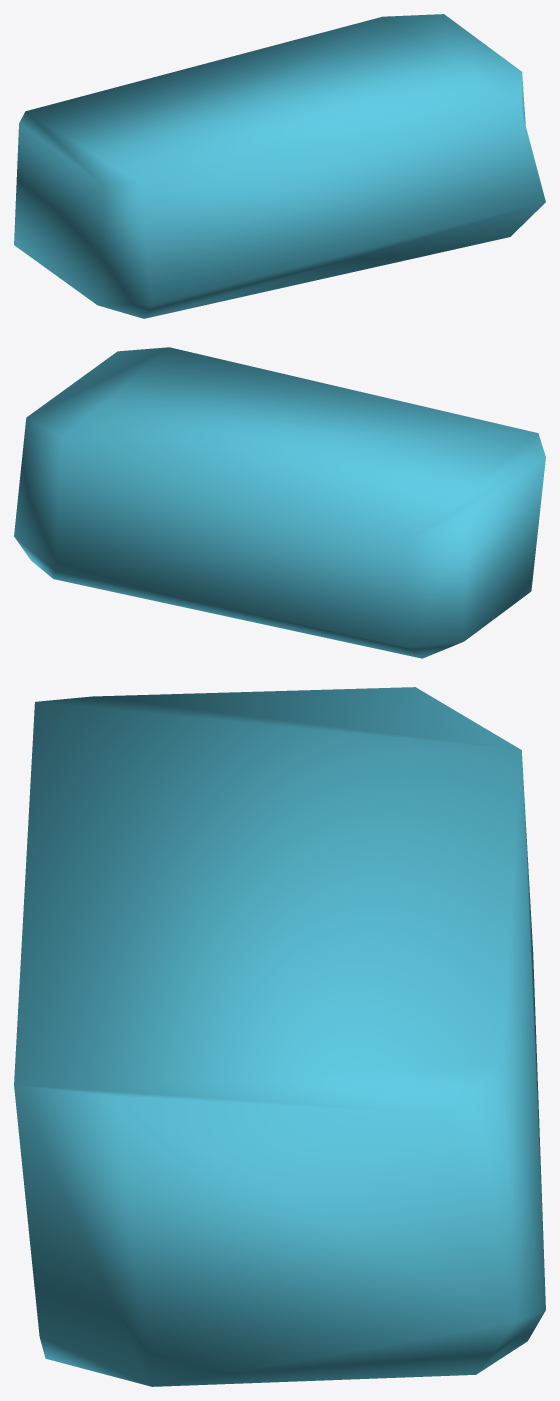
Rendered from stone brick_02.FBX.
3 views of the same model, one above another, from view 1: azimuth 30°, elevation 25°; view 2: azimuth 150°, elevation 25°; view 3: azimuth 270°, elevation 25° (orthographic). The views are drawn at different scales.
Parts seen in each view (by area): view 1: stone brick_02; view 2: stone brick_02; view 3: stone brick_02.
Boxes of the visible parts, x1,y1,x2,y2 form: stone brick_02: (14,14,545,318); stone brick_02: (14,347,545,658); stone brick_02: (14,687,545,1386).
Size of the model in its own units: 23.21 by 7.43 by 12.04.
